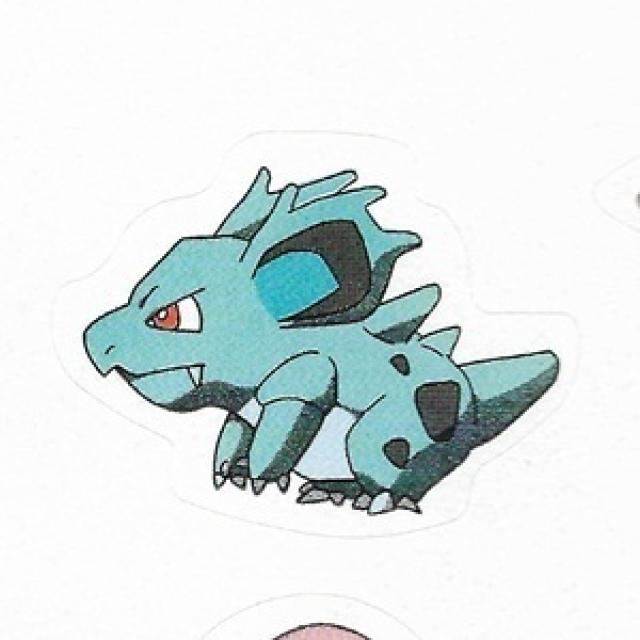Nidorina: (73, 167, 560, 520)
